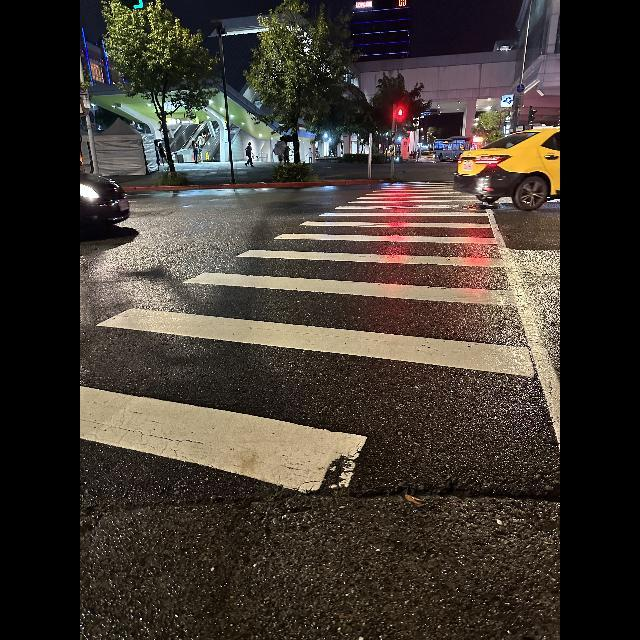sidewalk: (80, 183, 560, 640)
